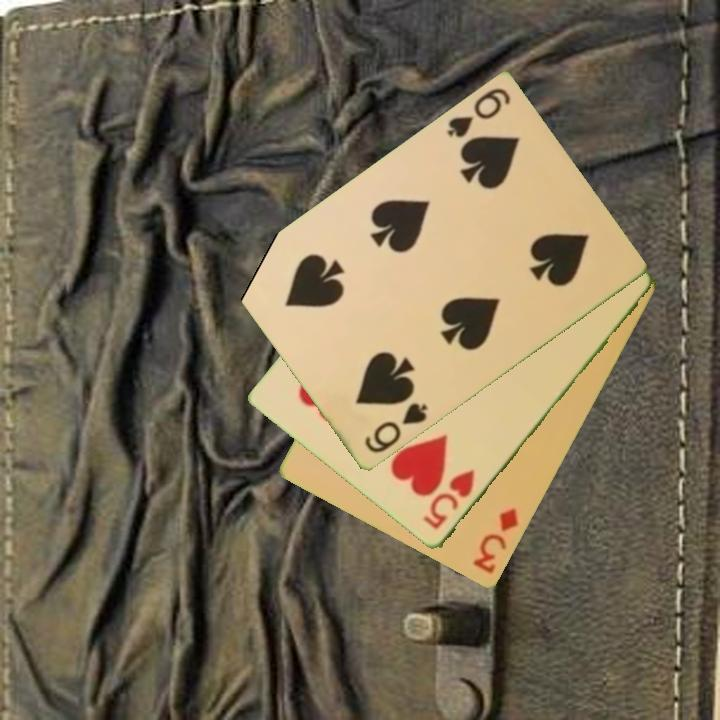3d: (470, 504, 522, 577)
5h: (419, 466, 478, 533)
6s: (361, 399, 431, 457), (443, 85, 514, 142)
